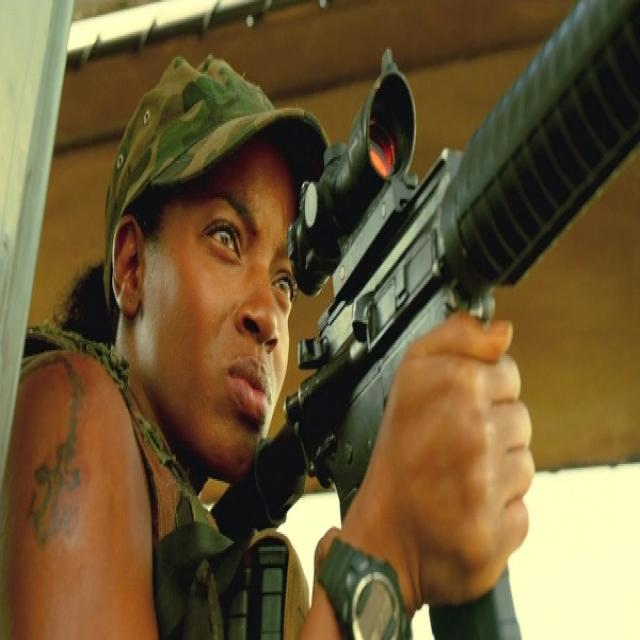rifle: (210, 1, 640, 640)
